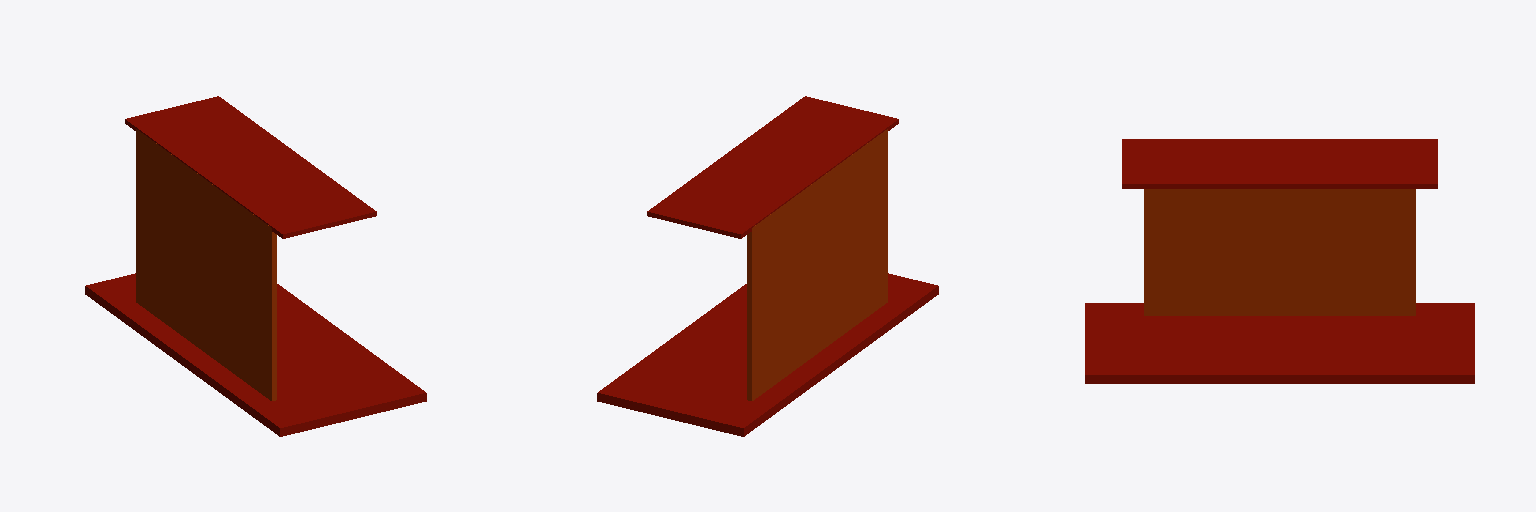
File: Karkas.obj
3 renders of one model, left to right at view 1: azimuth 30°, elevation 25°; view 2: azimuth 150°, elevation 25°; view 3: azimuth 270°, elevation 25°, orthographic.
Parts seen in each view (by area): view 1: Cube.001_Cube, Cube_Cube.001, Cube.002; view 2: Cube.001_Cube, Cube_Cube.001, Cube.002; view 3: Cube.001_Cube, Cube_Cube.001, Cube.002.
Boxes of the visible parts, <box> form: Cube.001_Cube: <box>136,129,276,400</box>; Cube_Cube.001: <box>85,273,426,436</box>; Cube.002: <box>125,96,376,238</box>; Cube.001_Cube: <box>747,129,887,400</box>; Cube_Cube.001: <box>597,273,938,436</box>; Cube.002: <box>647,96,898,238</box>; Cube.001_Cube: <box>1144,189,1415,315</box>; Cube_Cube.001: <box>1085,303,1474,383</box>; Cube.002: <box>1122,139,1437,188</box>.
Size of the model in its own units: 0.8662 by 1.04 by 2.